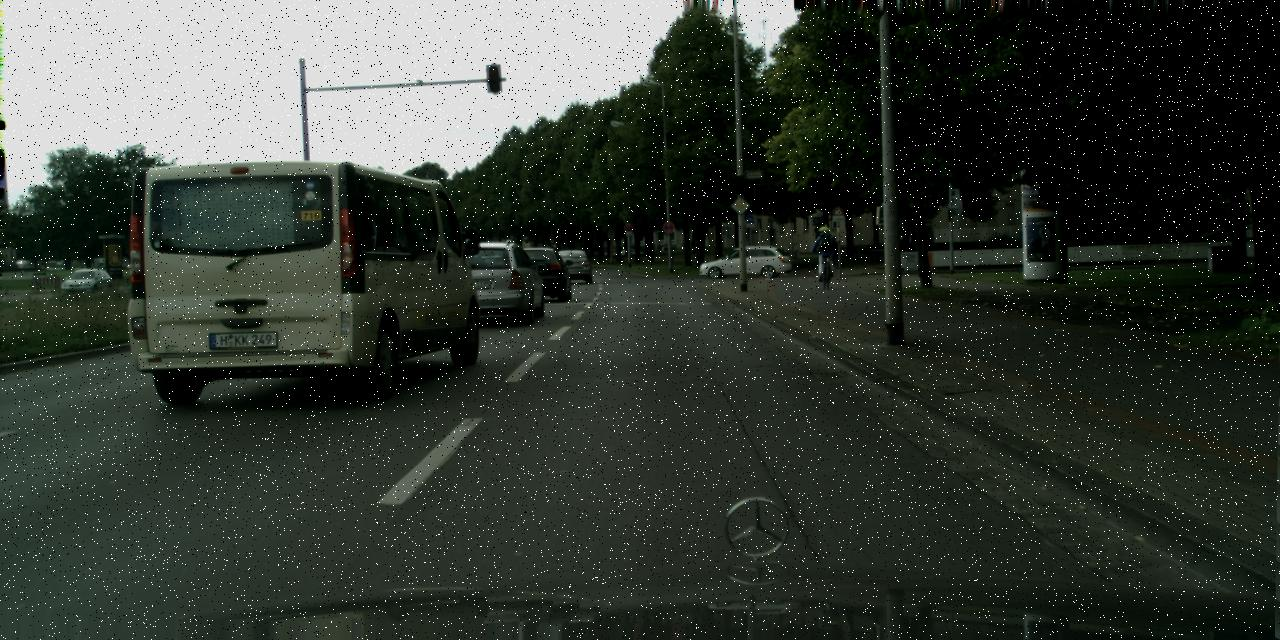ped: (814, 225, 835, 278), (827, 235, 840, 269)
